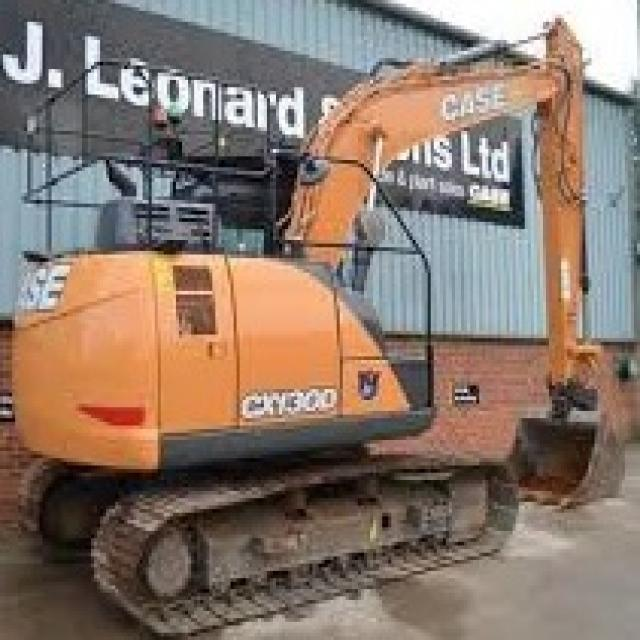excavator: (16, 205, 524, 623)
